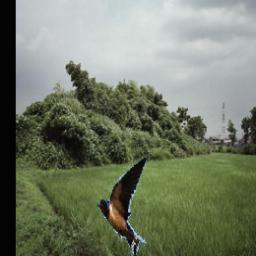Swallow: (97, 156, 148, 256)
